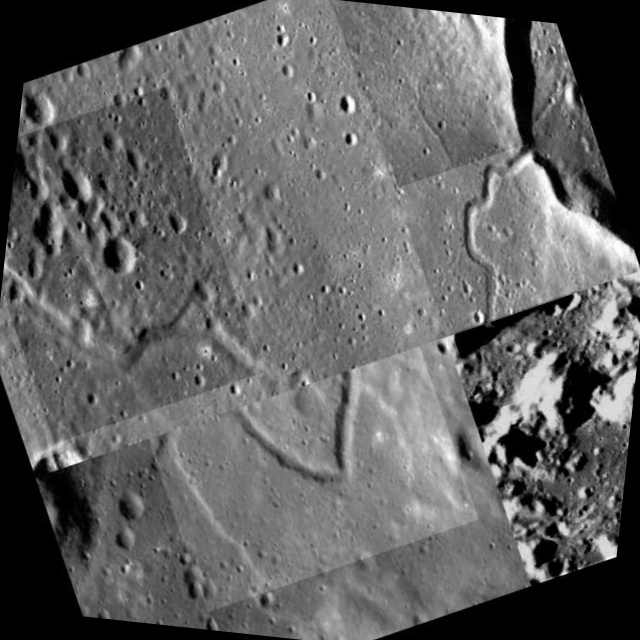crater: (0, 104, 268, 470), (162, 336, 499, 622), (447, 237, 640, 560), (382, 122, 574, 322)
